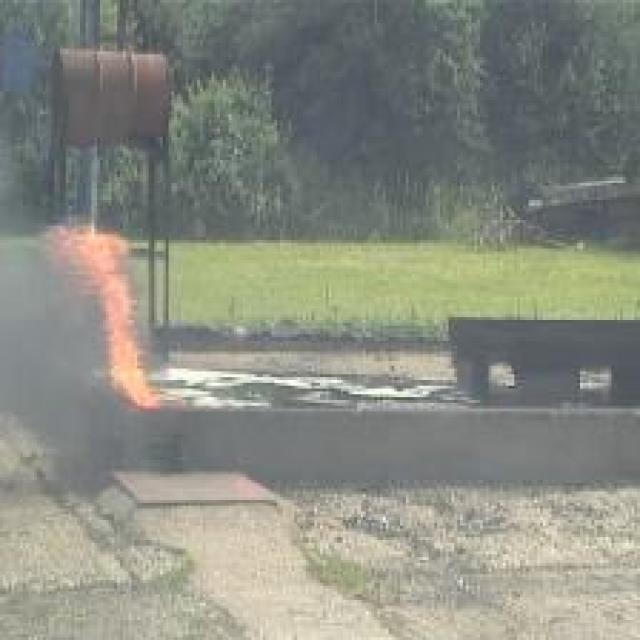Fire: (43, 224, 160, 407)
